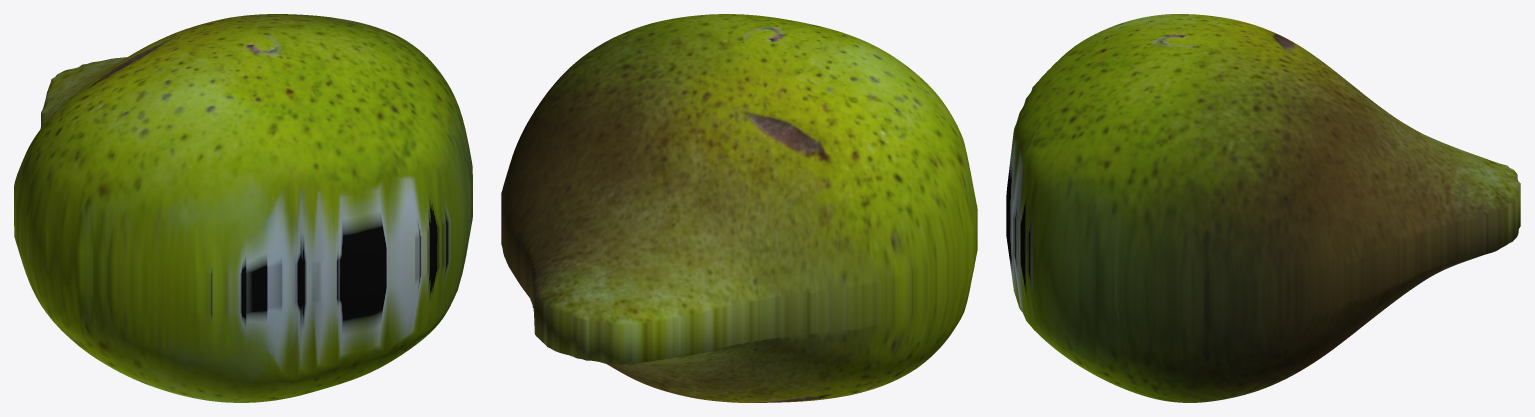
File: green pear_4_1.obj
The picture shows the model from 3 angles, left to right: view 1: azimuth 30°, elevation 25°; view 2: azimuth 150°, elevation 25°; view 3: azimuth 270°, elevation 25°; orthographic projection. The views are drawn at different scales.
Visible parts, largest first — view 1: Grid; view 2: Grid; view 3: Grid.
Part boxes in pixels (<box>): Grid: <box>14,14,472,402</box>; Grid: <box>501,14,977,402</box>; Grid: <box>1006,14,1520,402</box>.
Bounding box in the file's own units: 1.54 × 1.2 × 1.71.
Materials: 1 (1 with a texture image).
